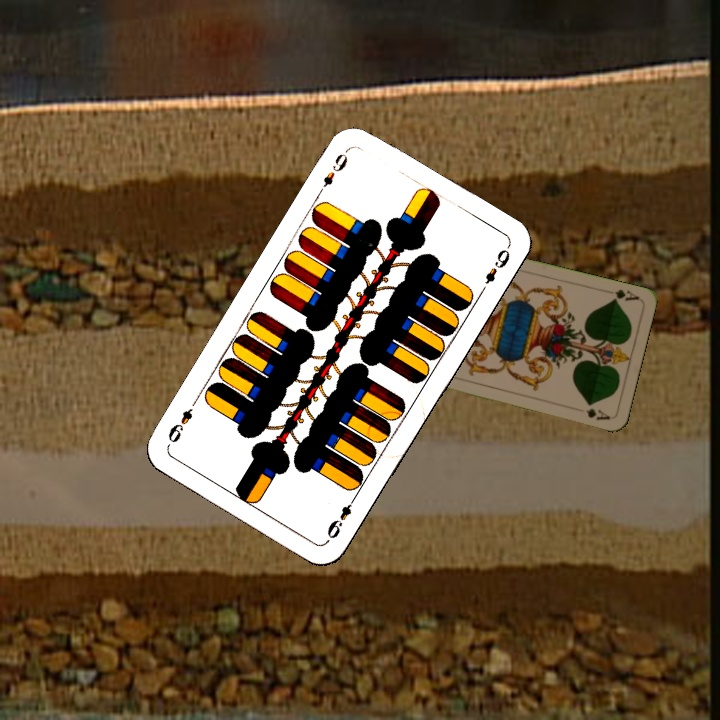E9: (322, 490, 360, 544), (313, 145, 351, 198)
GA: (607, 285, 642, 304)
